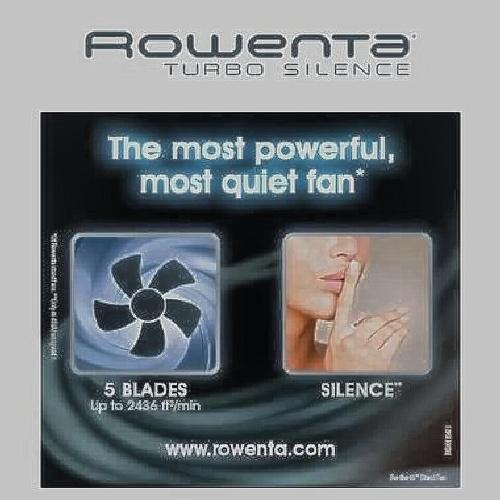fan: (66, 218, 227, 400)
